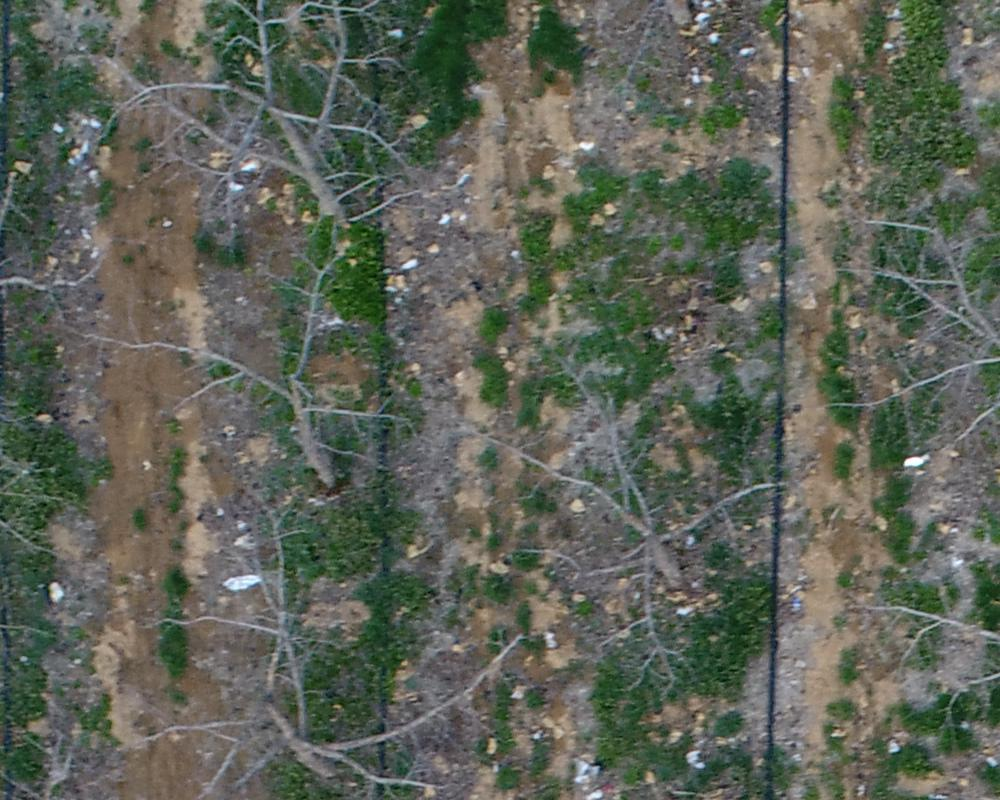apple: (114, 488, 528, 790), (461, 357, 795, 693), (86, 243, 436, 502), (119, 10, 444, 246)
